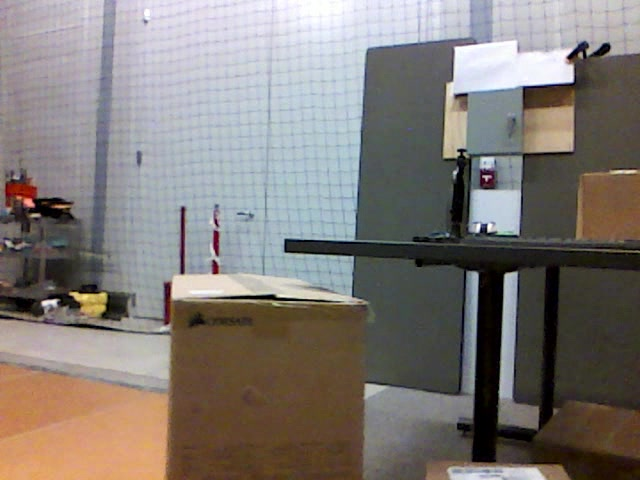box: (169, 275, 363, 480), (535, 400, 640, 479), (577, 173, 640, 239), (424, 458, 569, 480)
